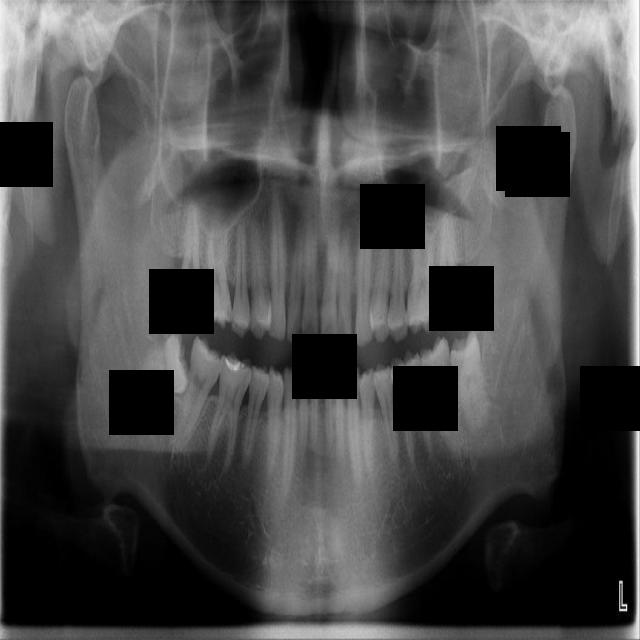52: (212, 348, 257, 393)
73: (626, 614, 636, 624)
BioHorizons Implant: (428, 198, 463, 322)
Biomet 3i Implant: (443, 329, 499, 436)
Blue Sky Bio Implant: (416, 334, 461, 447)
Caries: (171, 197, 205, 321)
Implant: (175, 334, 227, 458)
Keystone Dental Implant: (128, 331, 196, 406)
